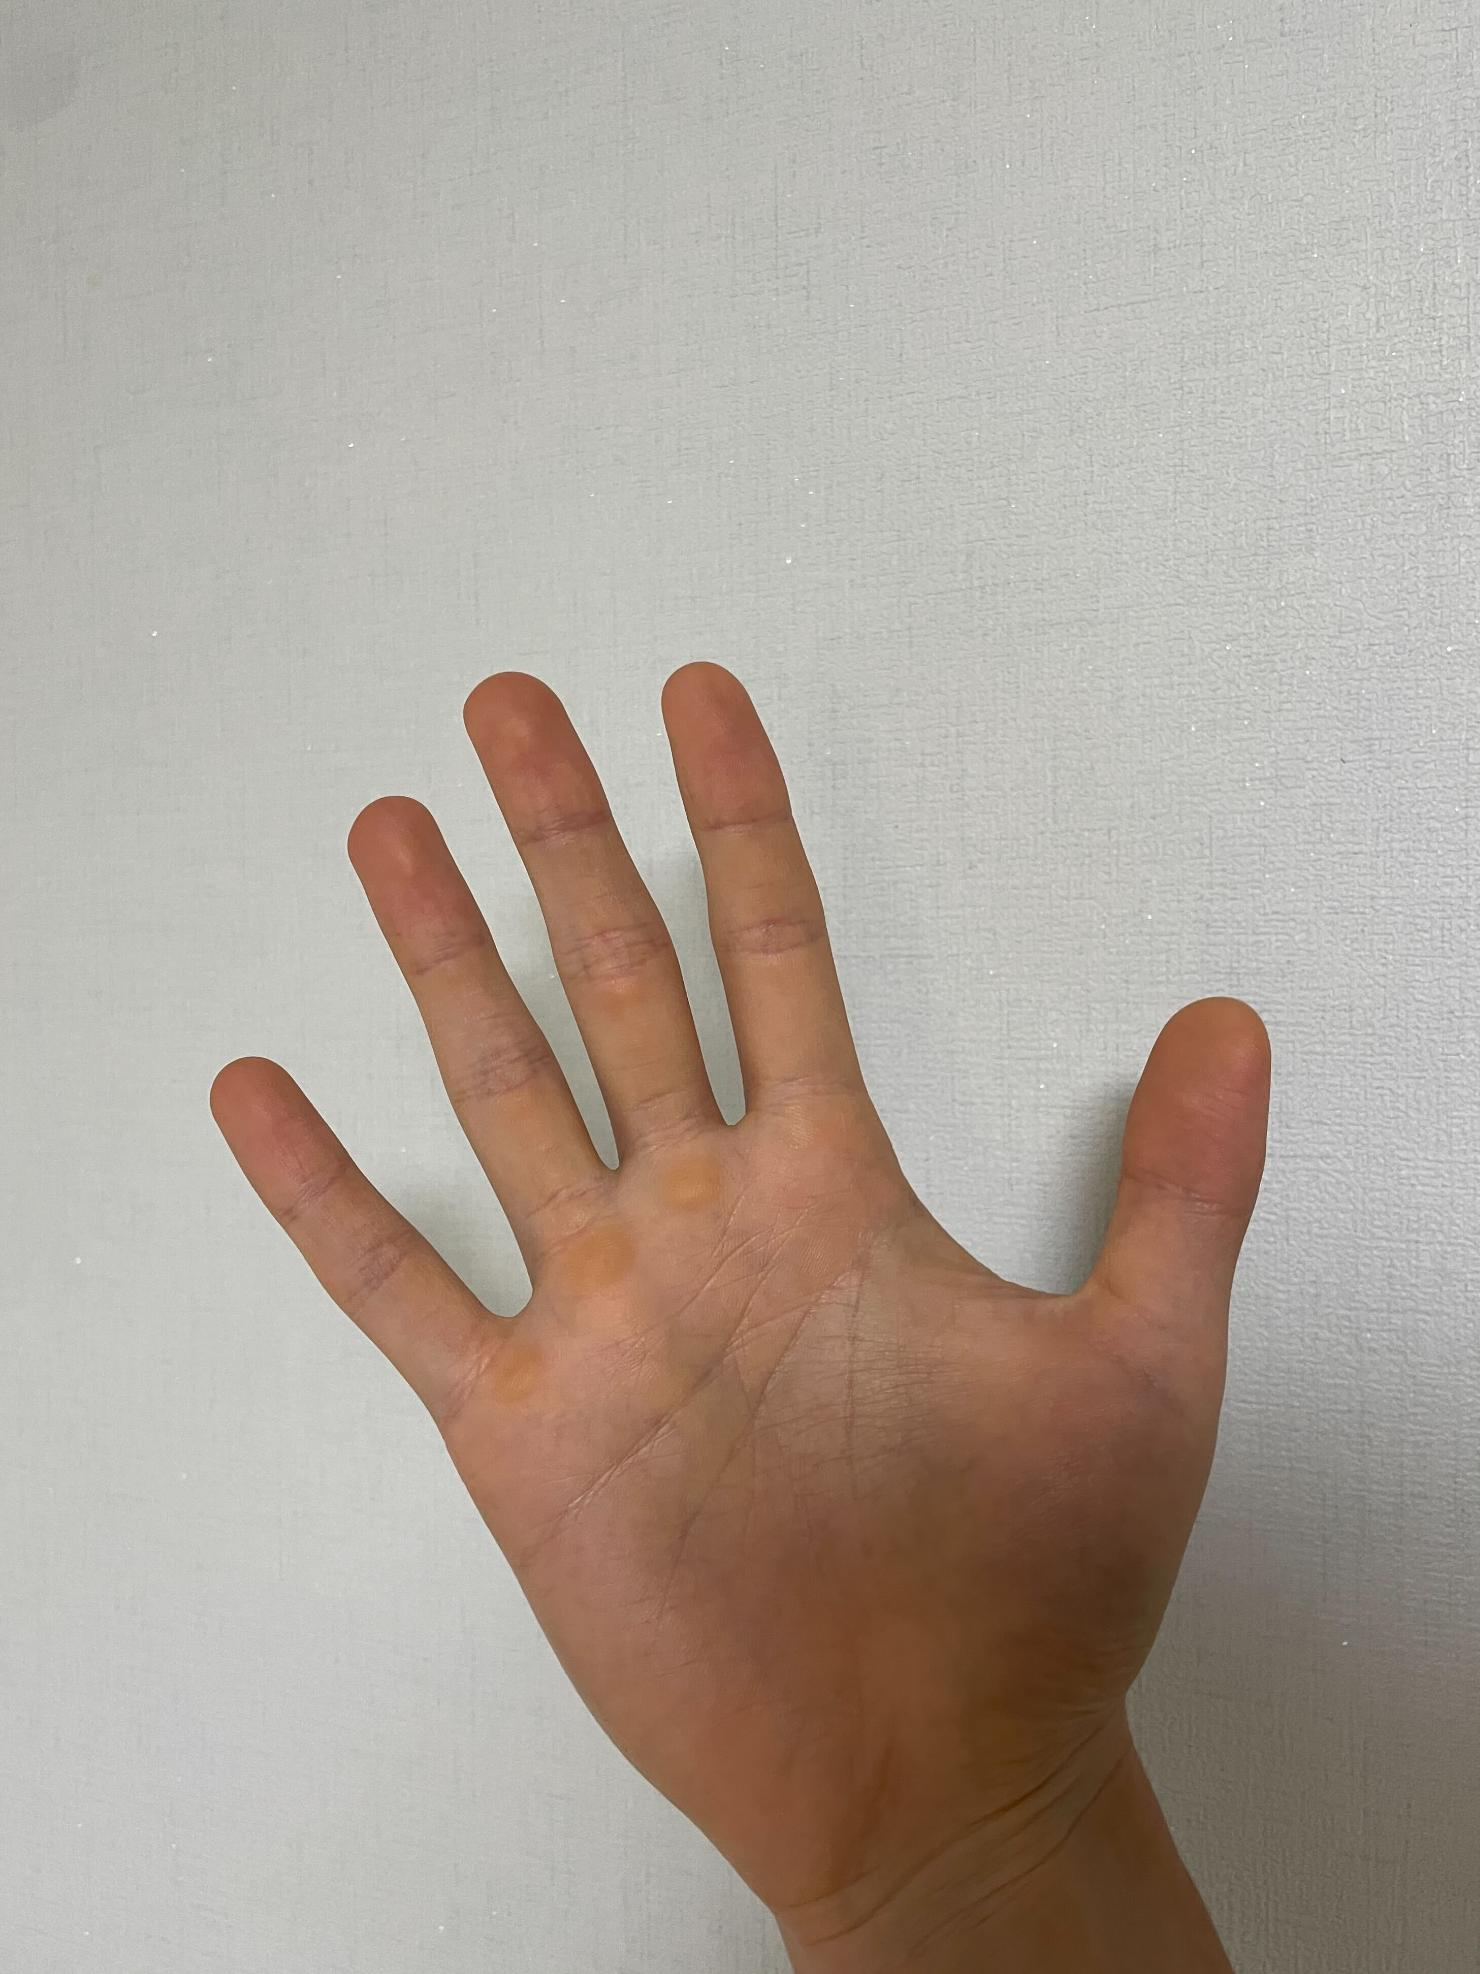open: (196, 661, 1278, 1918)
